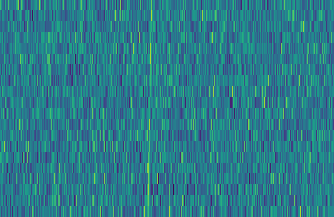signal: (142, 0, 155, 217)
